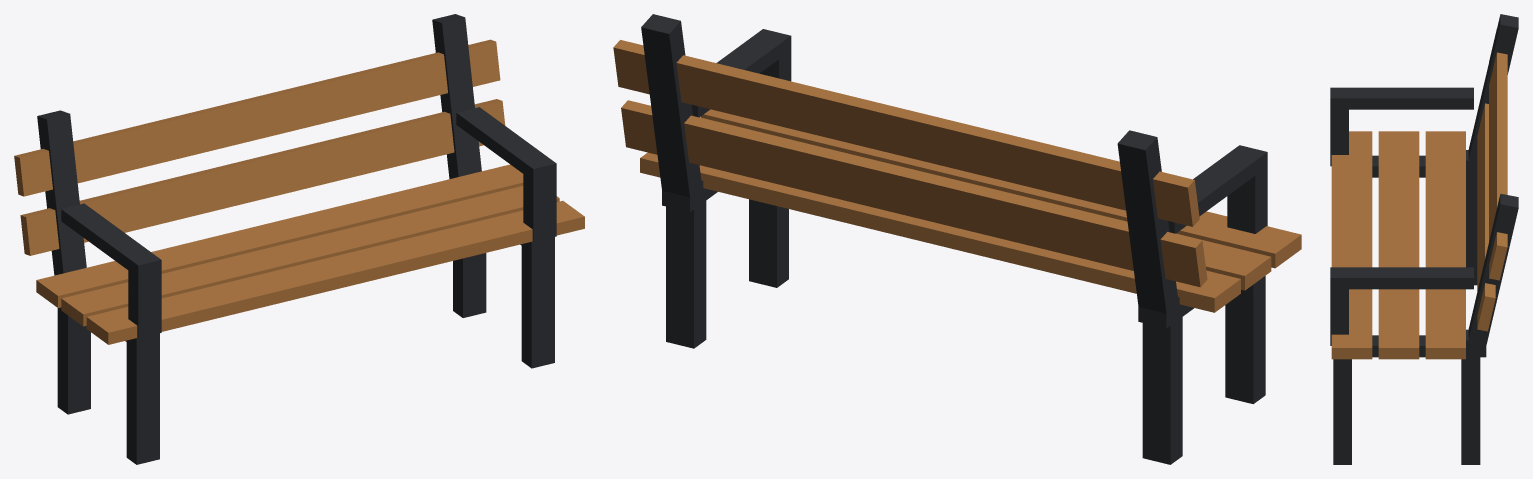
Rendered from prop_bench.glb.
3 views of the same model, side by side, from view 1: azimuth 30°, elevation 25°; view 2: azimuth 150°, elevation 25°; view 3: azimuth 270°, elevation 25° (orthographic). The views are drawn at different scales.
Parts seen in each view (by area): view 1: prop_bench; view 2: prop_bench; view 3: prop_bench.
Part boxes in pixels (<box>): prop_bench: <box>14,14,584,464</box>; prop_bench: <box>613,14,1301,464</box>; prop_bench: <box>1330,14,1518,464</box>.
Size of the model in its own units: 1.64 by 0.9206 by 0.6034.
